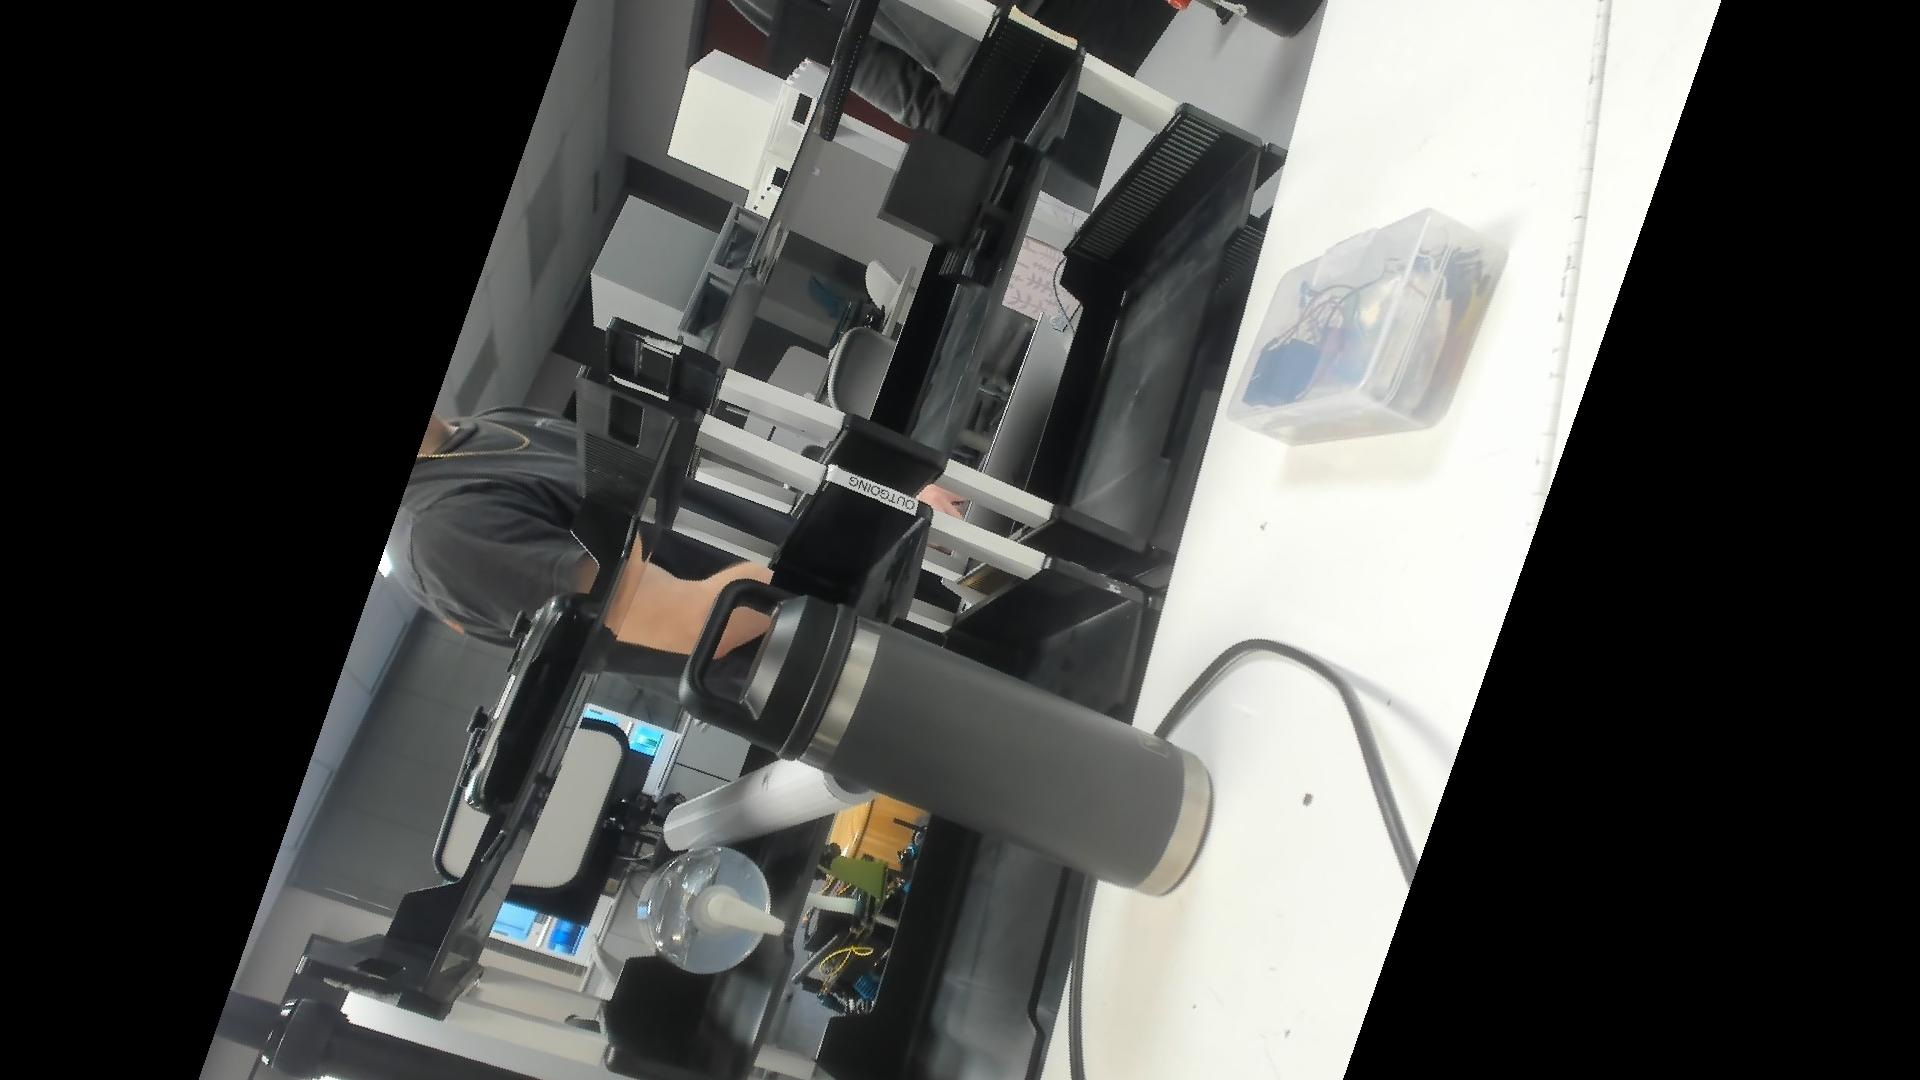black pallet: (874, 124, 1051, 291)
grey pallet: (584, 193, 775, 352)
white pallet: (663, 41, 837, 222)
